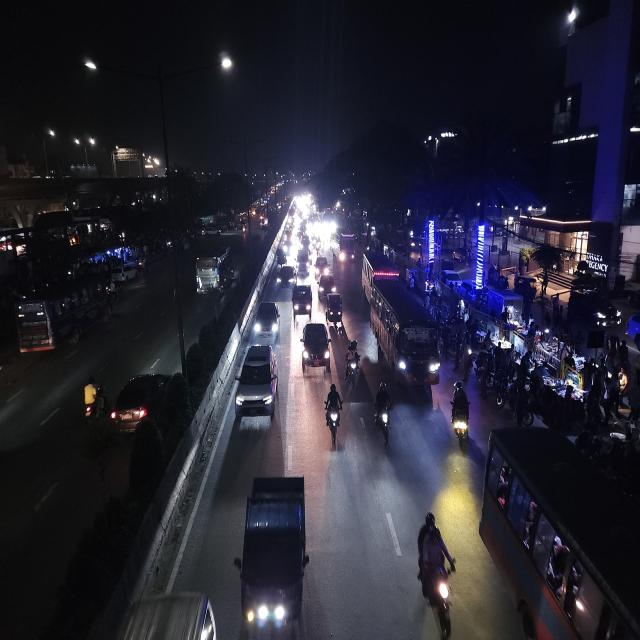bus: (482, 423, 640, 640), (11, 276, 115, 360), (368, 280, 442, 392), (194, 243, 234, 301), (358, 249, 398, 304), (336, 228, 358, 264)
car: (108, 366, 176, 441), (233, 340, 280, 429), (300, 318, 330, 378), (253, 297, 281, 342), (275, 264, 297, 289), (295, 248, 309, 278), (318, 273, 336, 296), (314, 255, 330, 277), (202, 224, 221, 237), (282, 229, 292, 247)
cng: (326, 290, 344, 333), (273, 246, 289, 269)
motorcycle: (410, 507, 458, 638), (372, 379, 394, 448), (322, 380, 343, 444), (80, 375, 105, 428), (344, 337, 362, 386)
pickup_van: (237, 470, 312, 638), (292, 280, 313, 321)
rickshaw: (448, 381, 472, 448)
